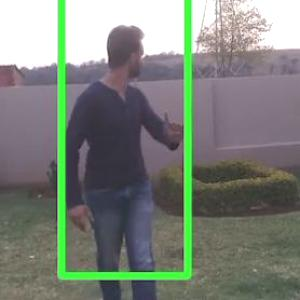takeoff-hand: (154, 103, 196, 148)
